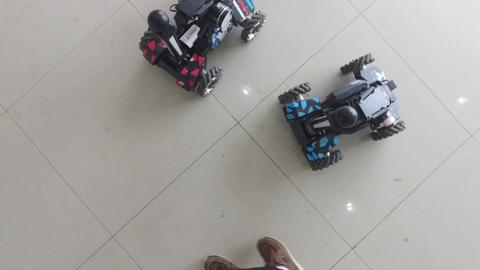chariot: (274, 49, 413, 173), (140, 1, 269, 105)
